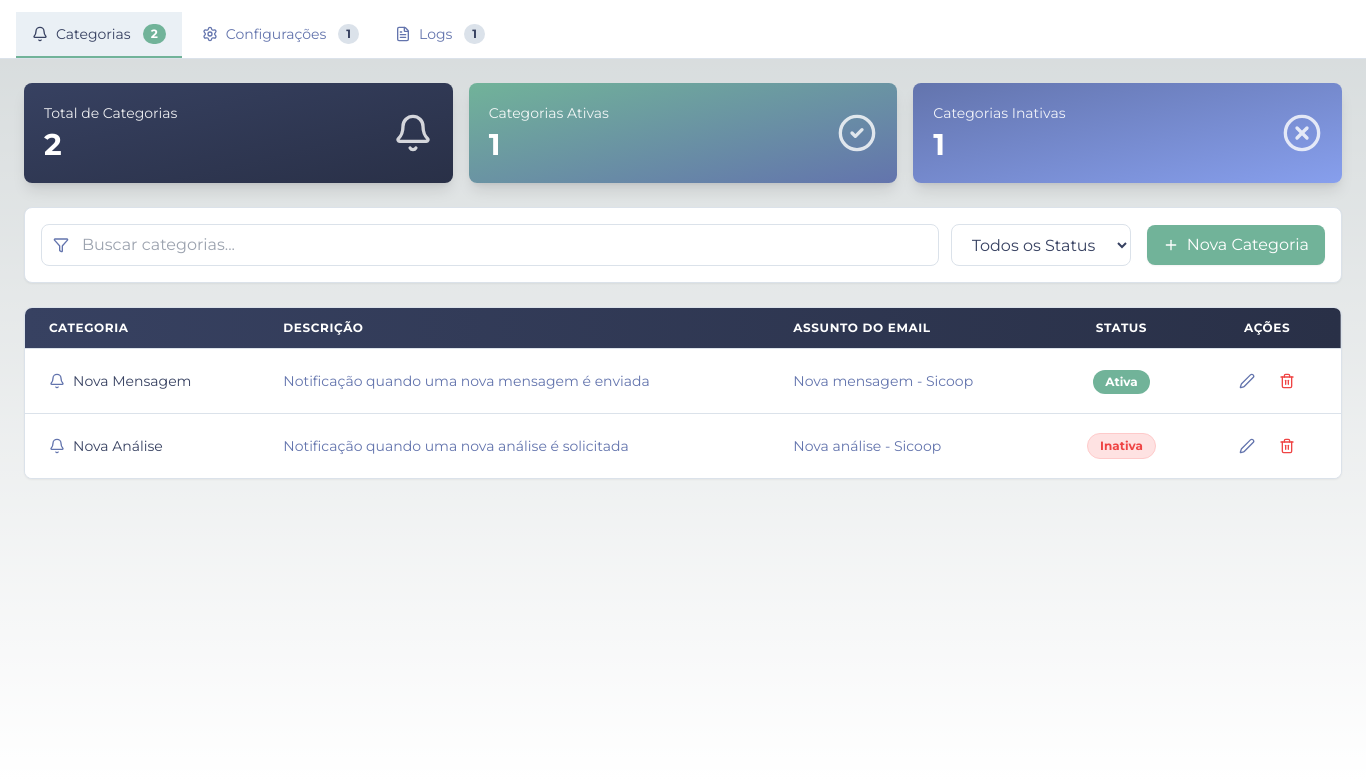
it: NotificationsManager › navegação entre tabs › deve alternar para a tab de logs
The image size is (1366, 780).
Click the button "Logs 1" at (440, 35), box x1=379 y1=12 x2=501 y2=58
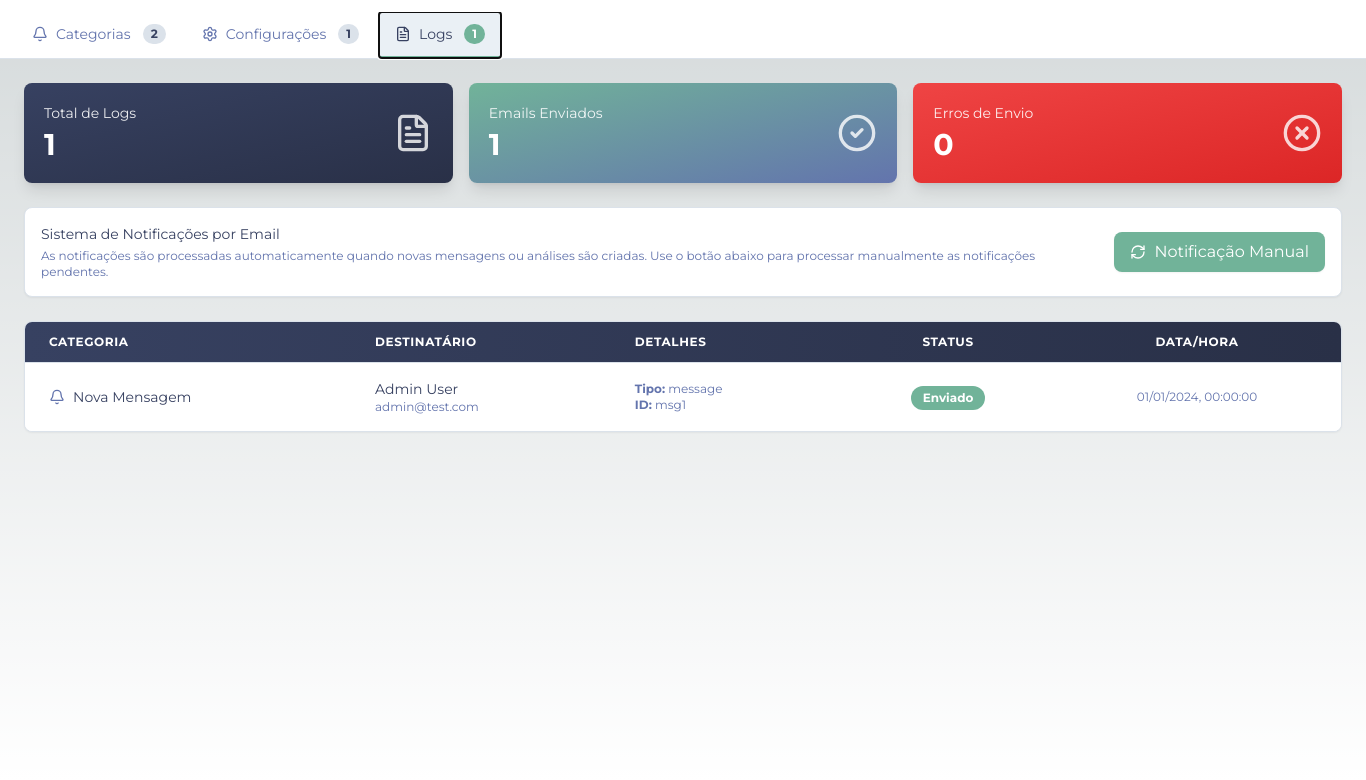
Expected: the text "Nova Mensagem" is shown, x1=73 y1=387 x2=192 y2=407
Result: the button "Notificação Manual" is shown at x1=1114 y1=232 x2=1325 y2=272
